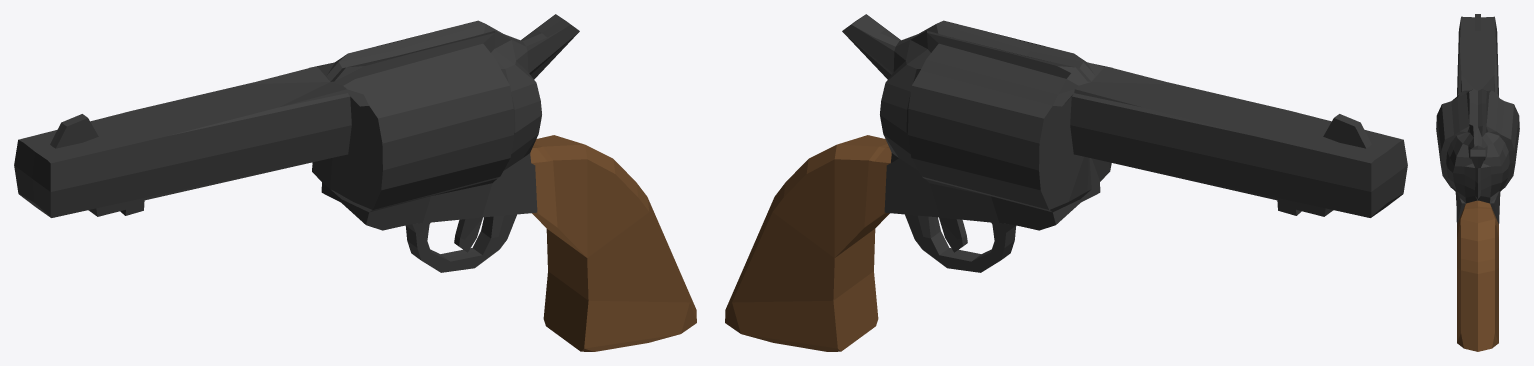
File: sheriff_gun.glb
3 views of the same model, side by side, from view 1: azimuth 30°, elevation 25°; view 2: azimuth 150°, elevation 25°; view 3: azimuth 270°, elevation 25° (orthographic). The views are drawn at different scales.
Parts seen in each view (by area): view 1: Cube; view 2: Cube; view 3: Cube.
Boxes of the visible parts, x1,y1,x2,y2 form: Cube: [14, 14, 696, 351]; Cube: [725, 14, 1407, 351]; Cube: [1436, 14, 1519, 351].
Size of the model in its own units: 4.5 by 2.23 by 0.9424.
